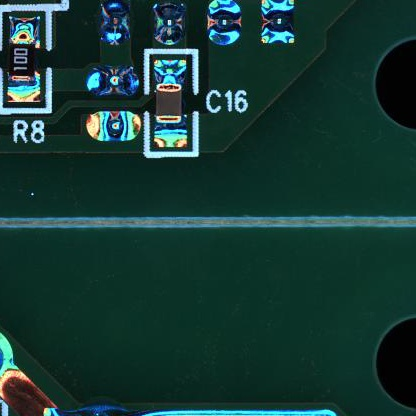spot: (83, 65, 141, 100), (206, 1, 245, 48), (258, 1, 297, 47), (87, 112, 143, 143), (97, 1, 132, 48), (152, 1, 187, 46)
